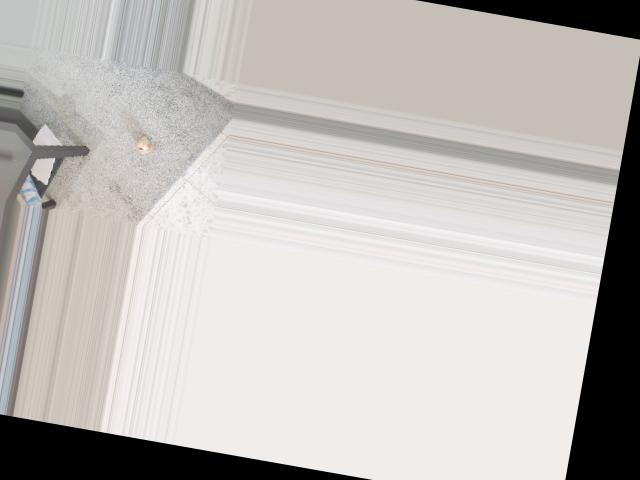onion: (133, 129, 158, 156)
